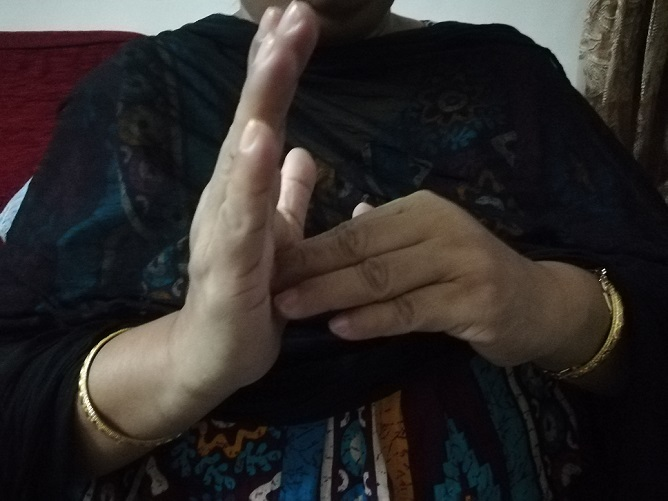ga: (214, 7, 499, 357)
